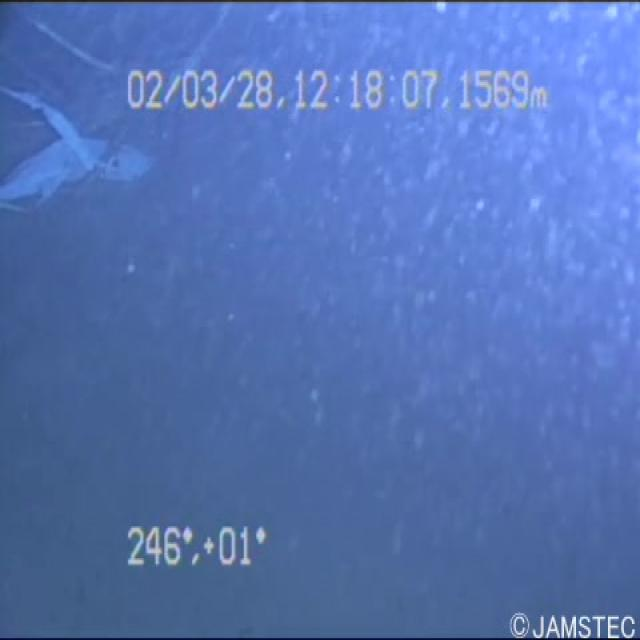plastic: (0, 28, 147, 245)
